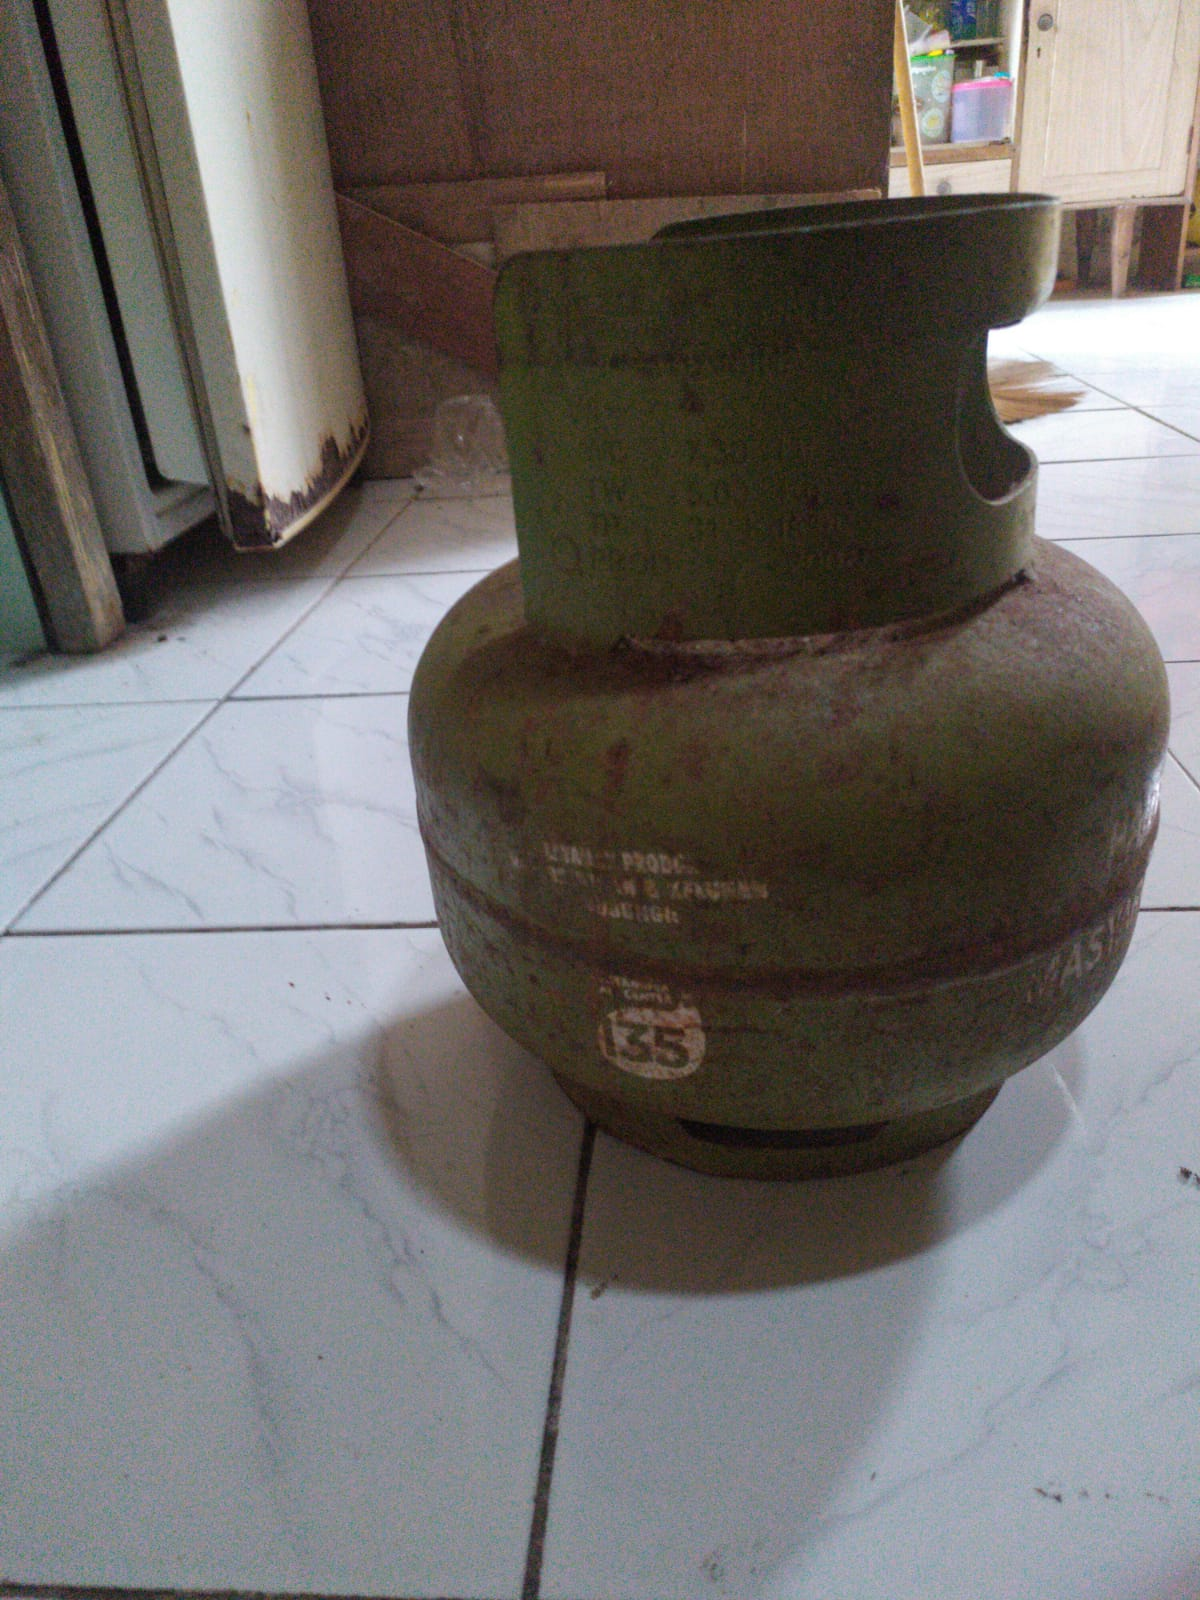gas_ijo: (407, 190, 1165, 1183)
